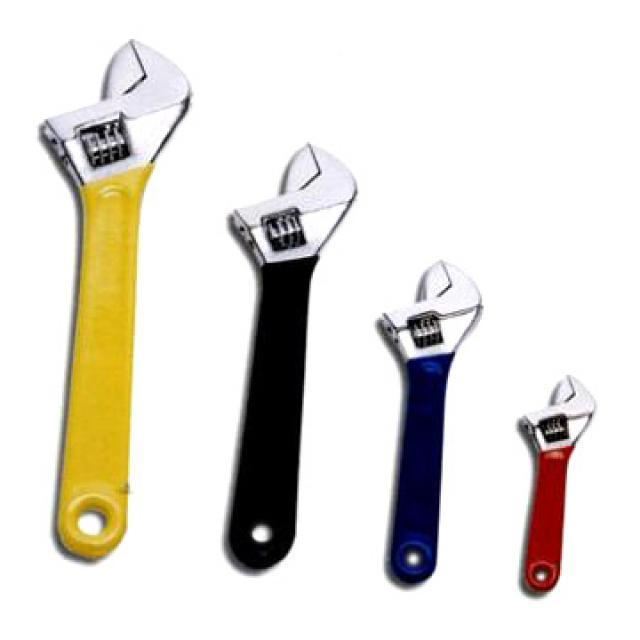wrench: (34, 30, 200, 568), (214, 133, 368, 584), (368, 250, 492, 600), (511, 364, 604, 604)
